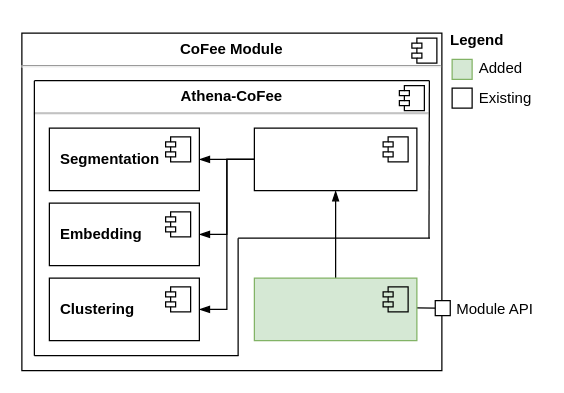
The diagram is 564 pixels wide and 393 high, and some of its shapes have lost their labels. The shapes that lost their labels are listed below. From the top down, each one's centre as x and y in pixels, then its label:
(x=335, y=159): Load Balancer
(x=335, y=309): CoFee Adapter
